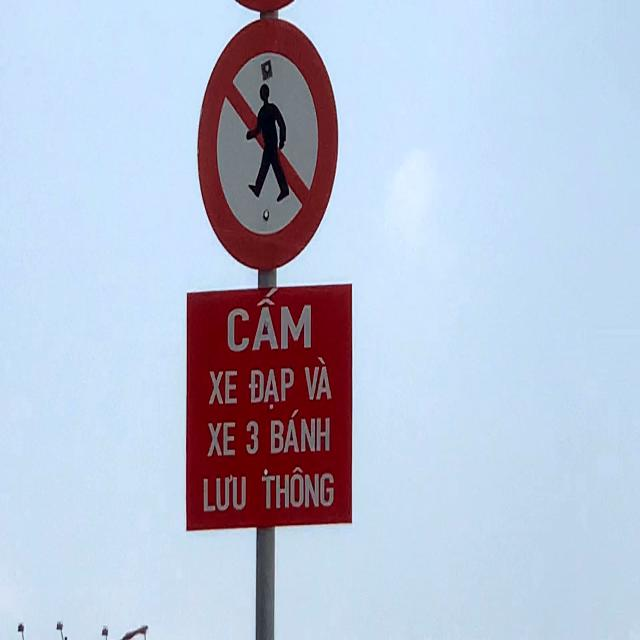P.112: (194, 14, 340, 270)
